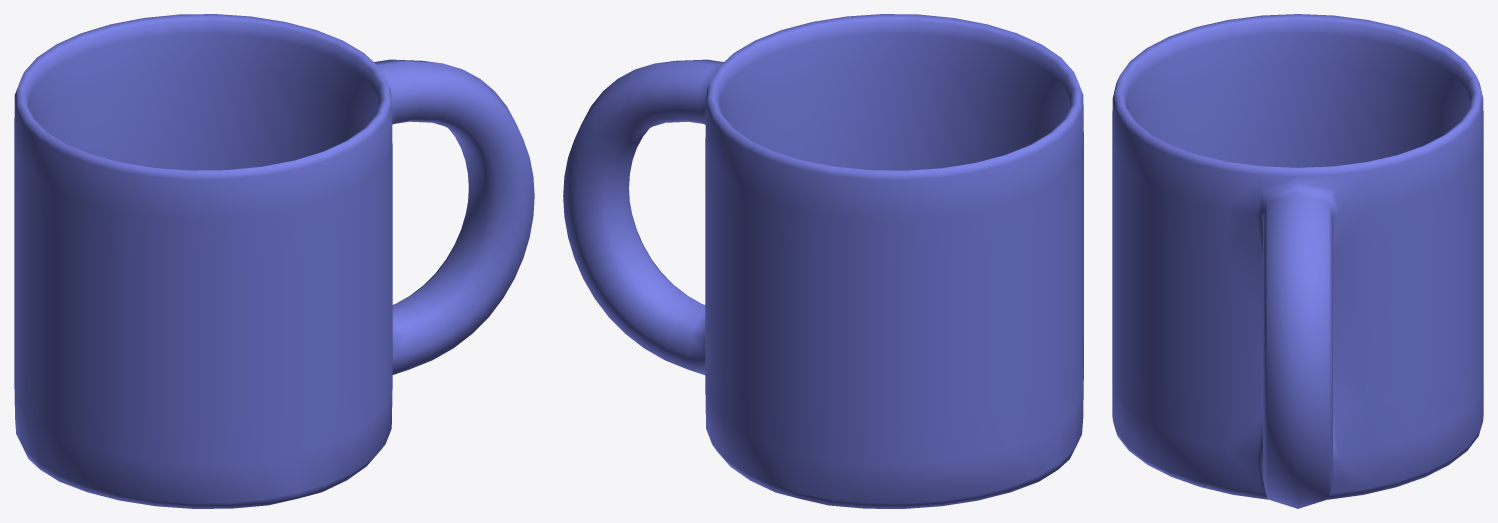
The model's file is mug.fbx.
3 renders of one model, left to right at view 1: azimuth 30°, elevation 25°; view 2: azimuth 150°, elevation 25°; view 3: azimuth 270°, elevation 25°, orthographic. The views are drawn at different scales.
Parts seen in each view (by area): view 1: Cylinder; view 2: Cylinder; view 3: Cylinder.
Boxes of the visible parts, x1,y1,x2,y2 form: Cylinder: (14,14,534,508); Cylinder: (563,14,1083,508); Cylinder: (1112,14,1483,508).
Size of the model in its own units: 248 by 166 by 167.
